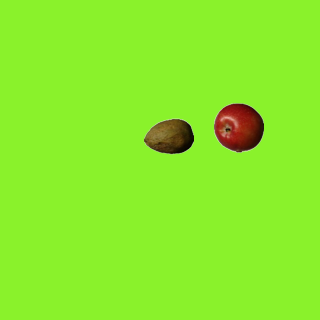Apple Braeburn: (213, 102, 263, 152)
Papaya: (143, 111, 193, 161)
